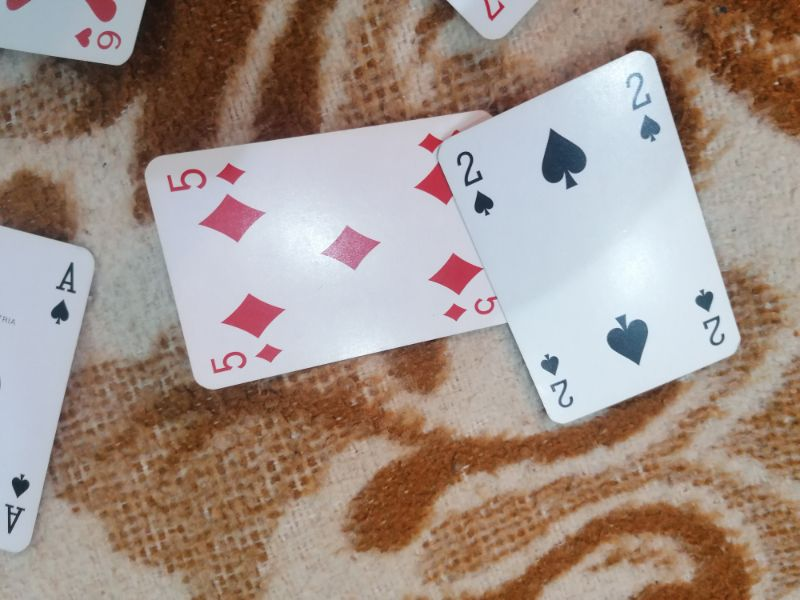2s: (619, 68, 663, 143), (453, 150, 496, 218), (691, 285, 731, 351), (537, 349, 578, 409)
5d: (164, 158, 251, 198), (209, 339, 288, 377)
6h: (72, 22, 125, 55)
As: (46, 256, 82, 332), (3, 468, 35, 539)
